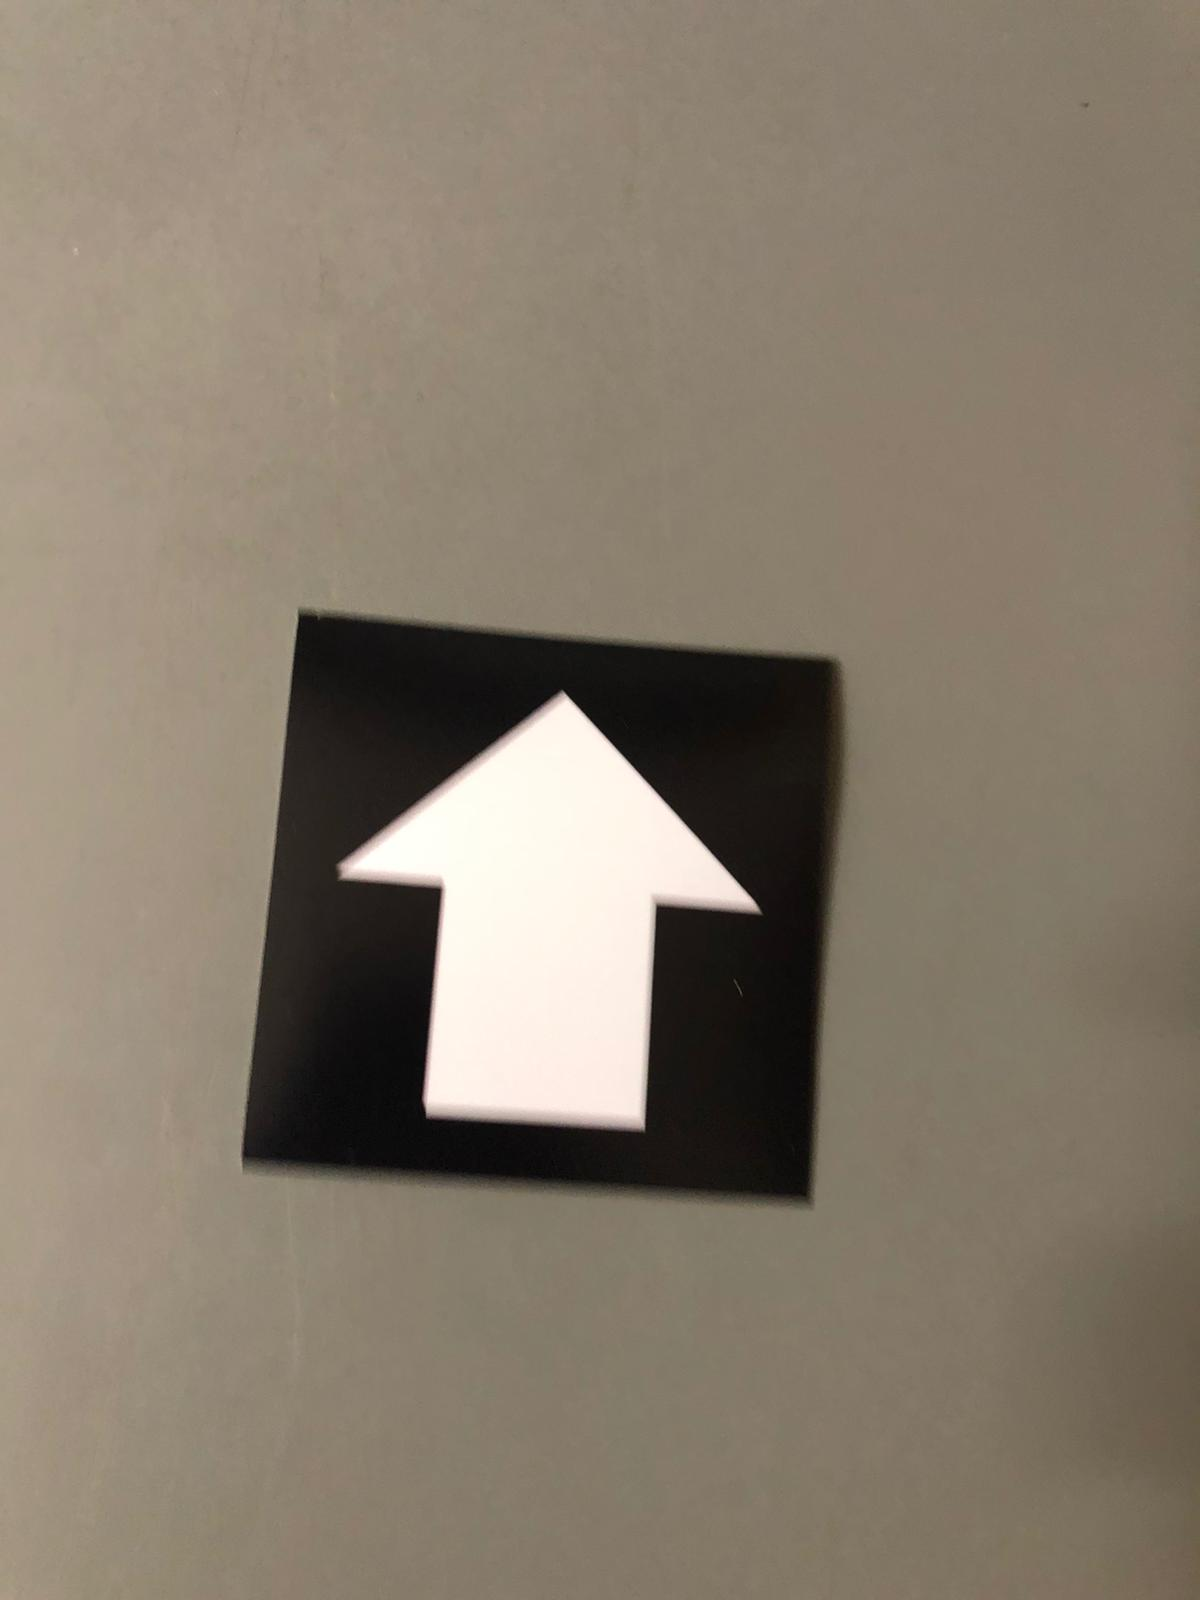Top Arrow: (310, 639, 779, 1177)
